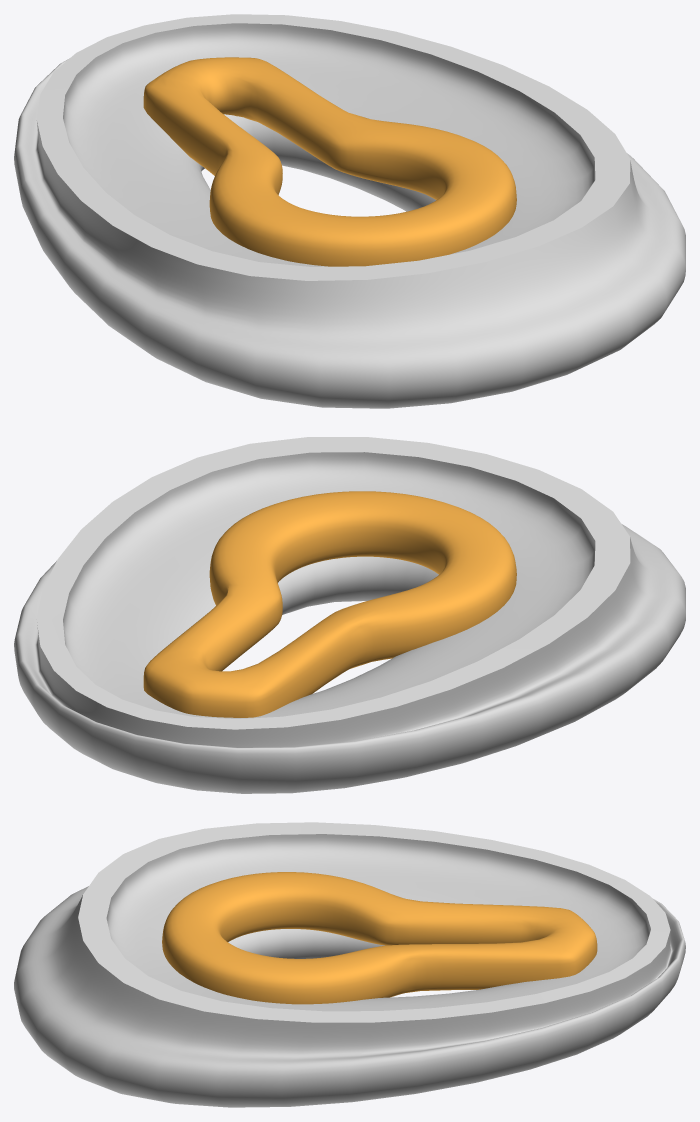
Rendered from casekey.fbx.
3 views of the same model, one above another, from view 1: azimuth 30°, elevation 25°; view 2: azimuth 150°, elevation 25°; view 3: azimuth 270°, elevation 25° (orthographic). The views are drawn at different scales.
Visible parts, largest first — view 1: base, lobang, base.gold; view 2: base, lobang, base.gold; view 3: base, lobang, base.gold.
Boxes of the visible parts, x1,y1,x2,y2 form: base: (14,23,685,408); lobang: (143,57,516,266); base.gold: (36,14,630,280); base: (14,452,685,793); lobang: (143,491,516,717); base.gold: (36,437,630,729); base: (14,834,685,1107); lobang: (162,872,597,1004); base.gold: (78,822,670,1022).
Size of the model in its own units: 31.06 by 6.82 by 38.91.
